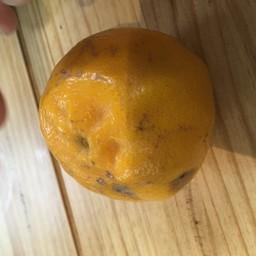Bad_orange: (39, 28, 212, 200)
